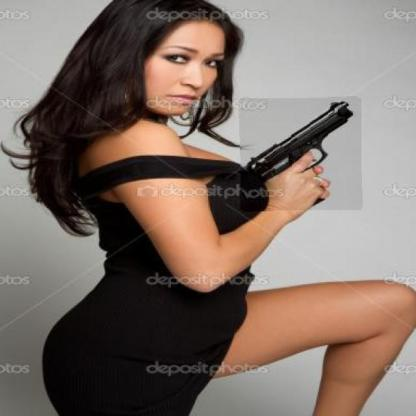handgun: (240, 97, 362, 211)
